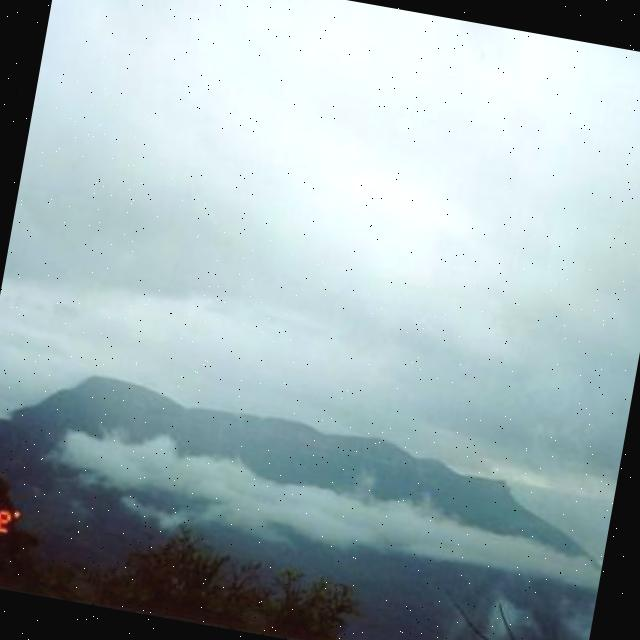St: (9, 1, 640, 358)
